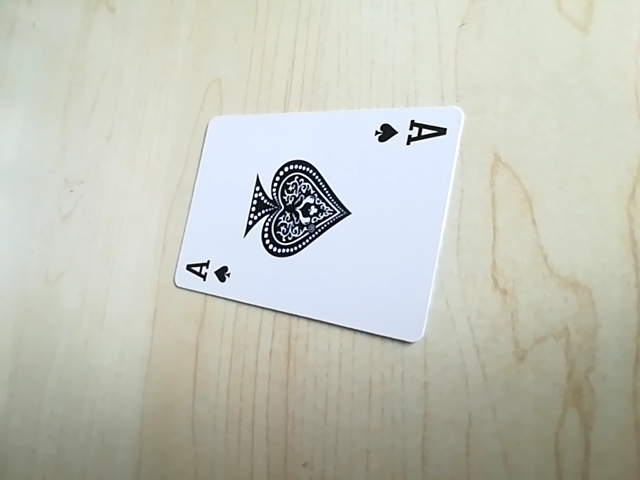ht a: (368, 115, 449, 154), (172, 254, 235, 289)
